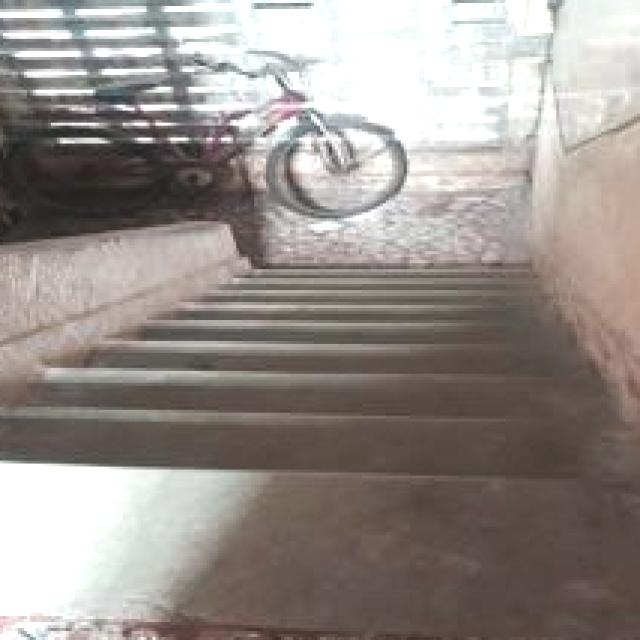downstair: (70, 306, 497, 557)
